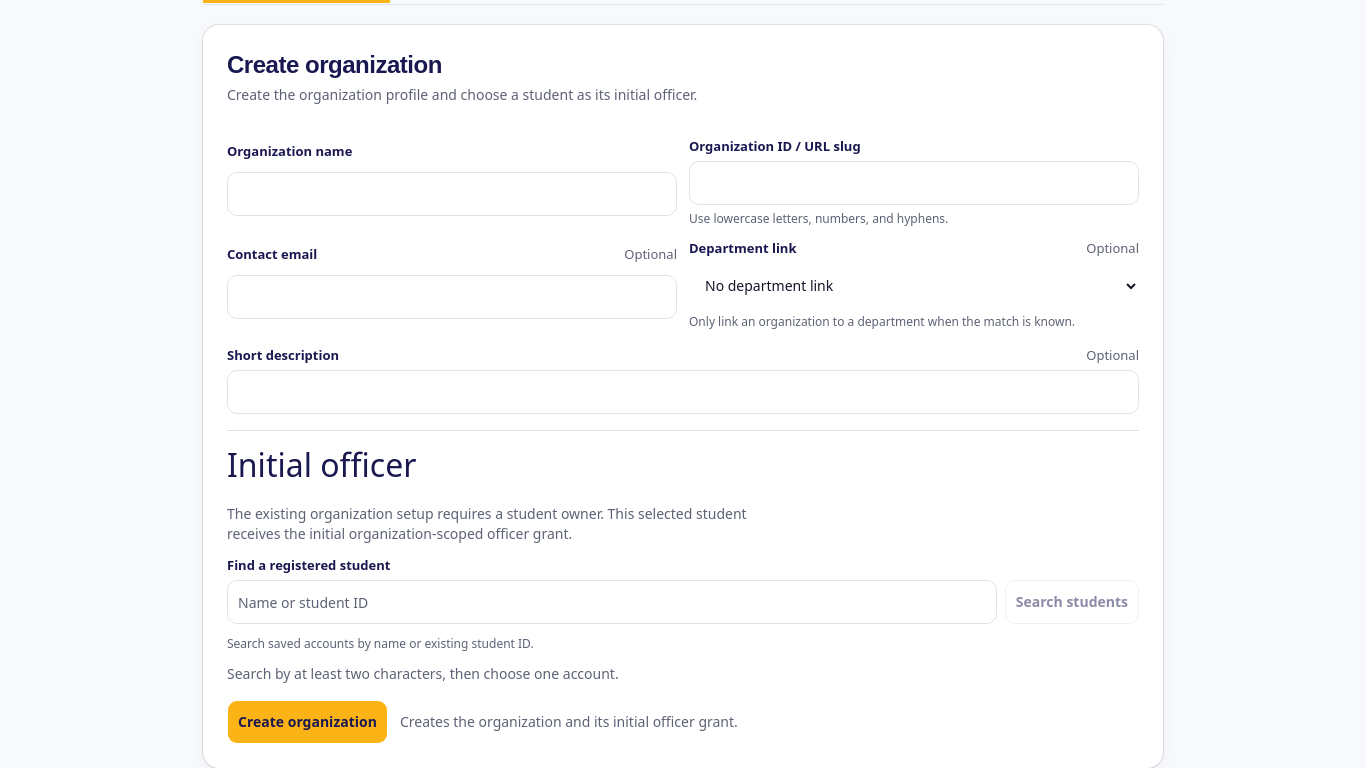
Test case: Admin provisioning page › keeps empty and loading search states understandable without showing unneeded student fields
This screenshot has width=1366, height=768.
(page scrolled)
Type "Nope" into the search field labelled "Find a registered student" at [612, 602], box [227, 580, 997, 624]
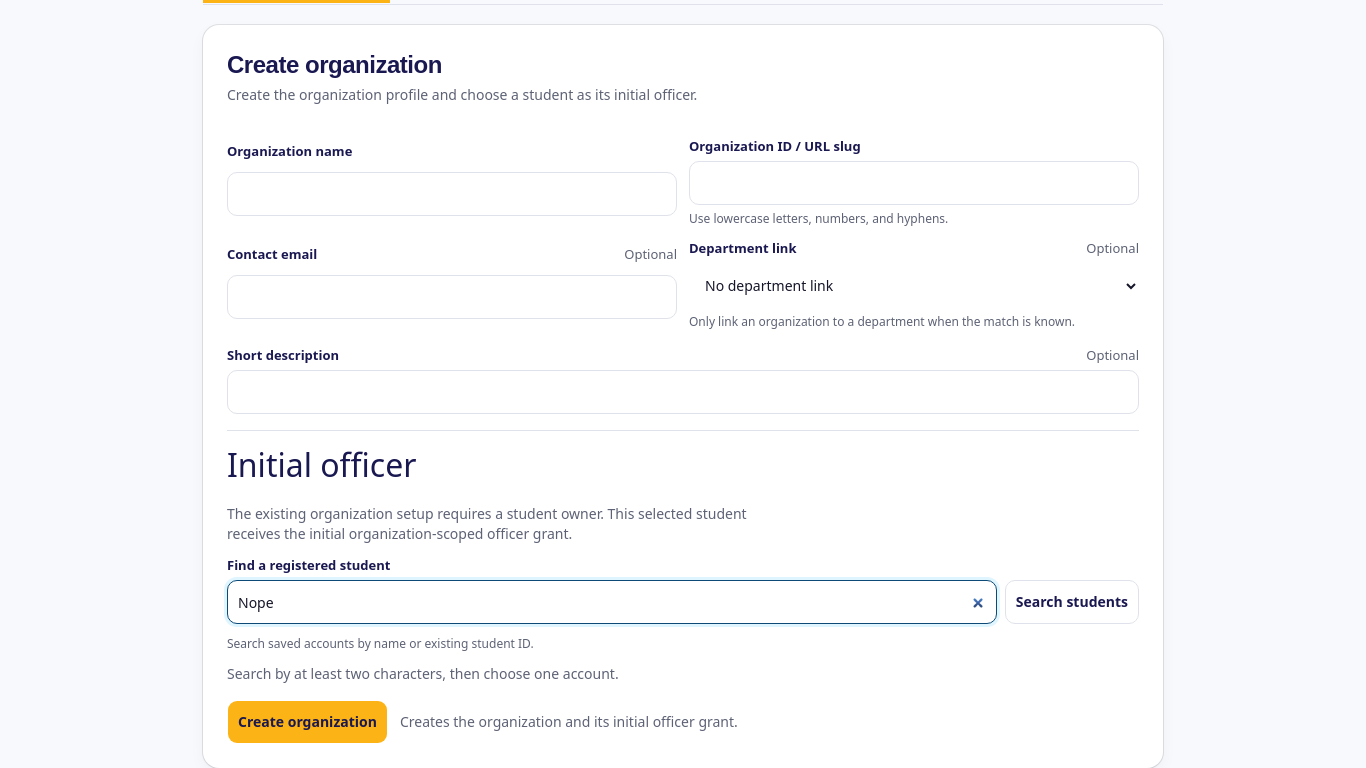
Click the button "Search students" at [1072, 602], box [1005, 580, 1139, 624]
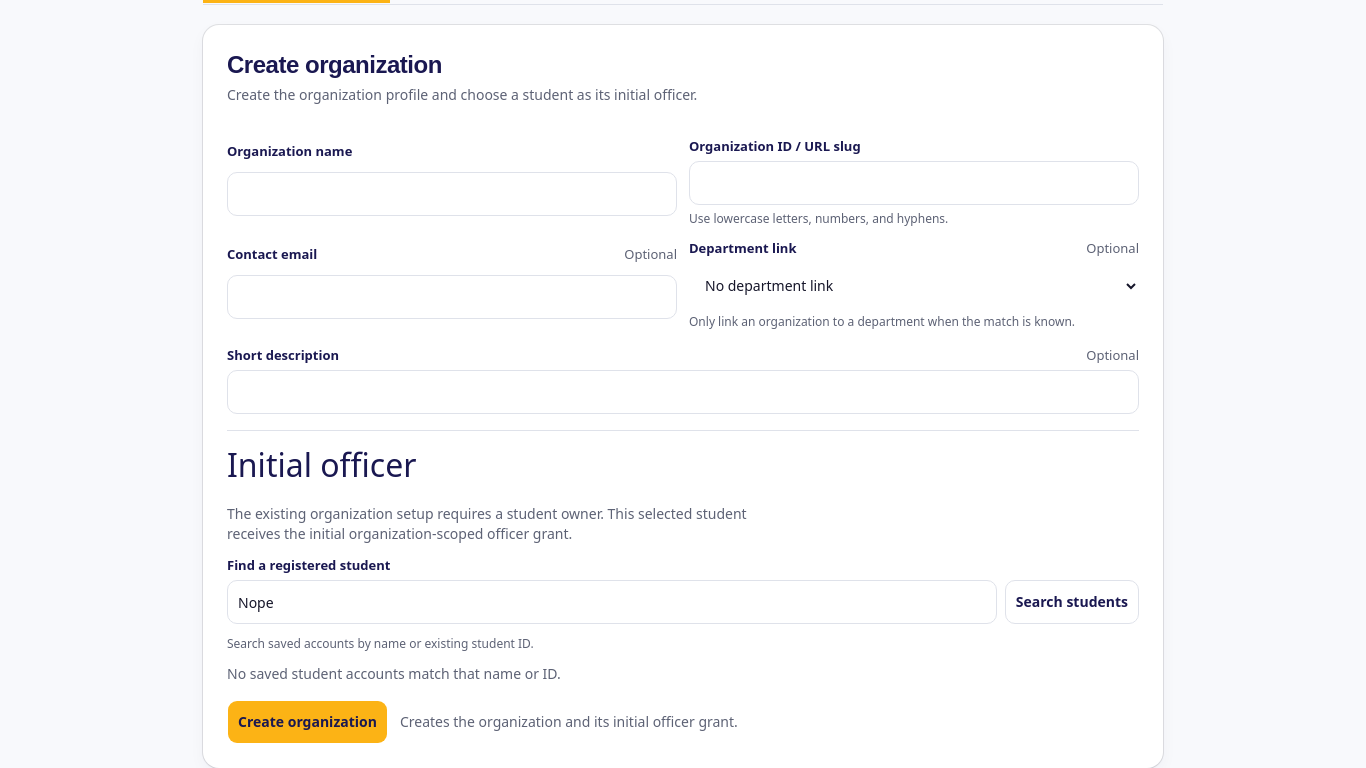
Expected: the text "No saved student accounts match that name or ID." is shown, [227, 664, 561, 683]
